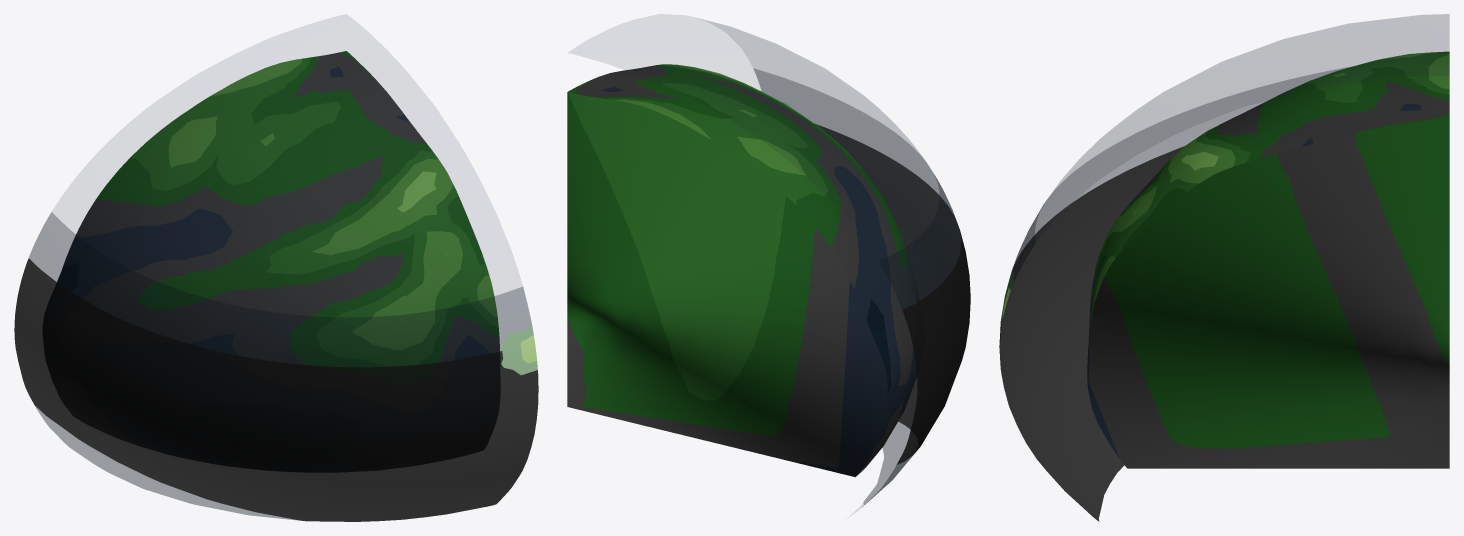
The model's file is glass_globe_bl_271.glb.
3 views of the same model, side by side, from view 1: azimuth 30°, elevation 25°; view 2: azimuth 150°, elevation 25°; view 3: azimuth 270°, elevation 25° (orthographic). The views are drawn at different scales.
Parts seen in each view (by area): view 1: glass_globe_bl; view 2: glass_globe_bl; view 3: glass_globe_bl.
Part boxes in pixels (x1,y1,x2,y2): glass_globe_bl: (14, 51, 538, 521); glass_globe_bl: (567, 17, 970, 507); glass_globe_bl: (999, 14, 1449, 521).
Bounding box in the file's own units: 22.88 × 25.09 × 22.9.
